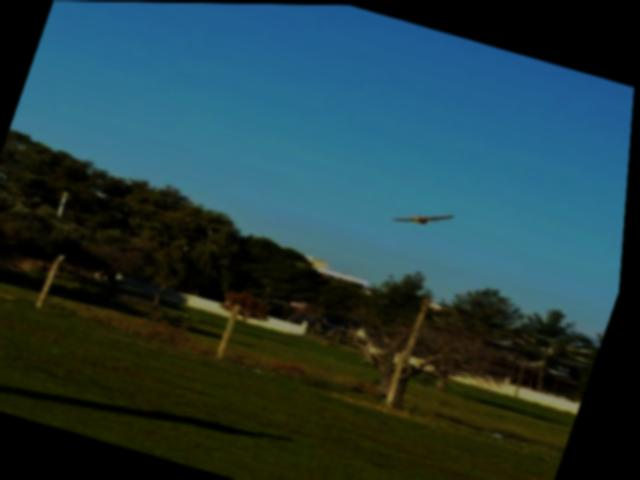iha: (390, 189, 465, 242)
